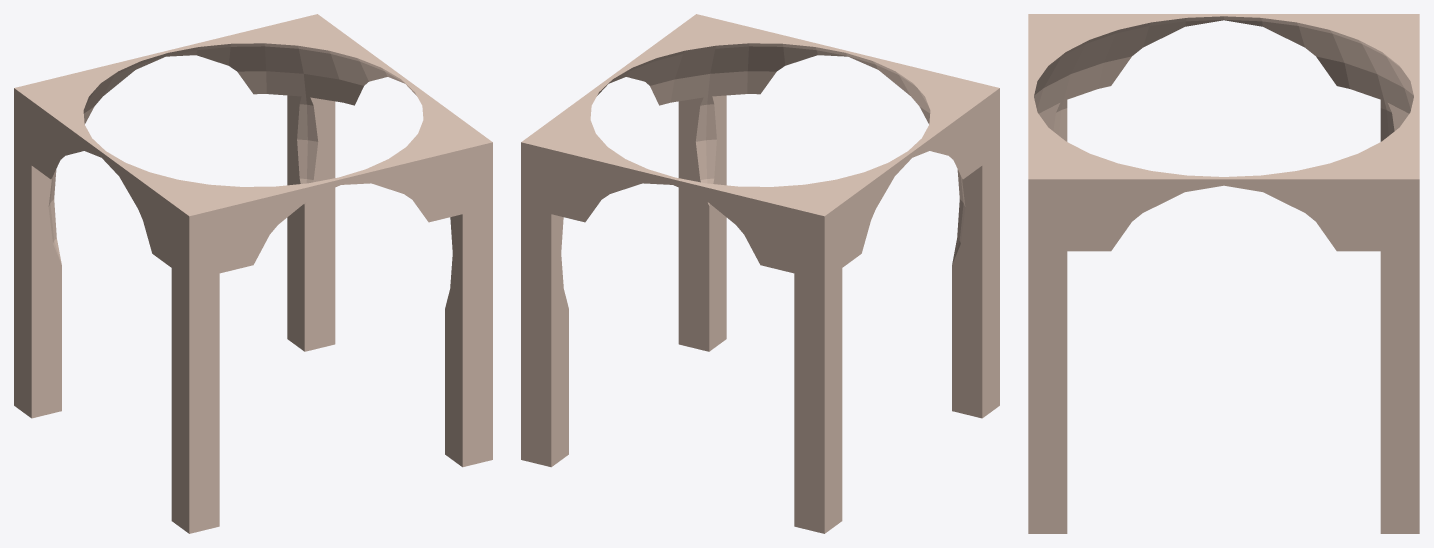
3 views of the same model, side by side, from view 1: azimuth 30°, elevation 25°; view 2: azimuth 150°, elevation 25°; view 3: azimuth 270°, elevation 25° (orthographic). The views are drawn at different scales.
Visible parts, largest first — view 1: Cube; view 2: Cube; view 3: Cube.
Boxes of the visible parts, <box> form: Cube: <box>14,14,492,533</box>; Cube: <box>521,14,999,533</box>; Cube: <box>1028,14,1419,533</box>.
Size of the model in its own units: 2 by 2 by 2.
